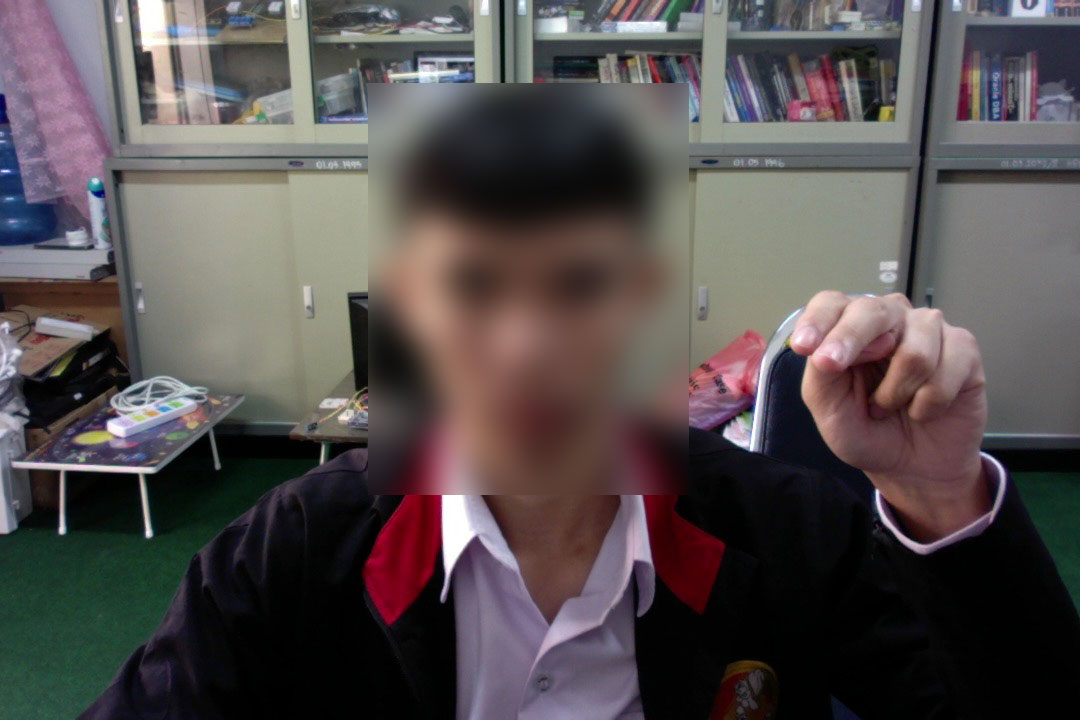nor: (786, 279, 996, 500)
